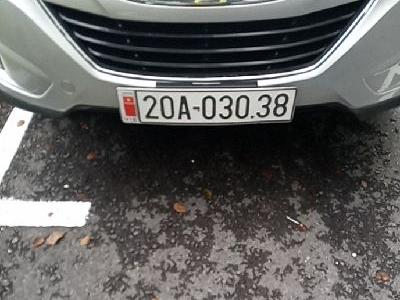lisence: (115, 86, 296, 127)
